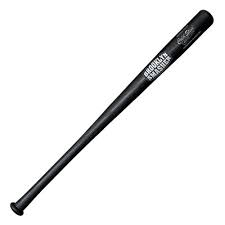baseball bat: (8, 10, 216, 217)
